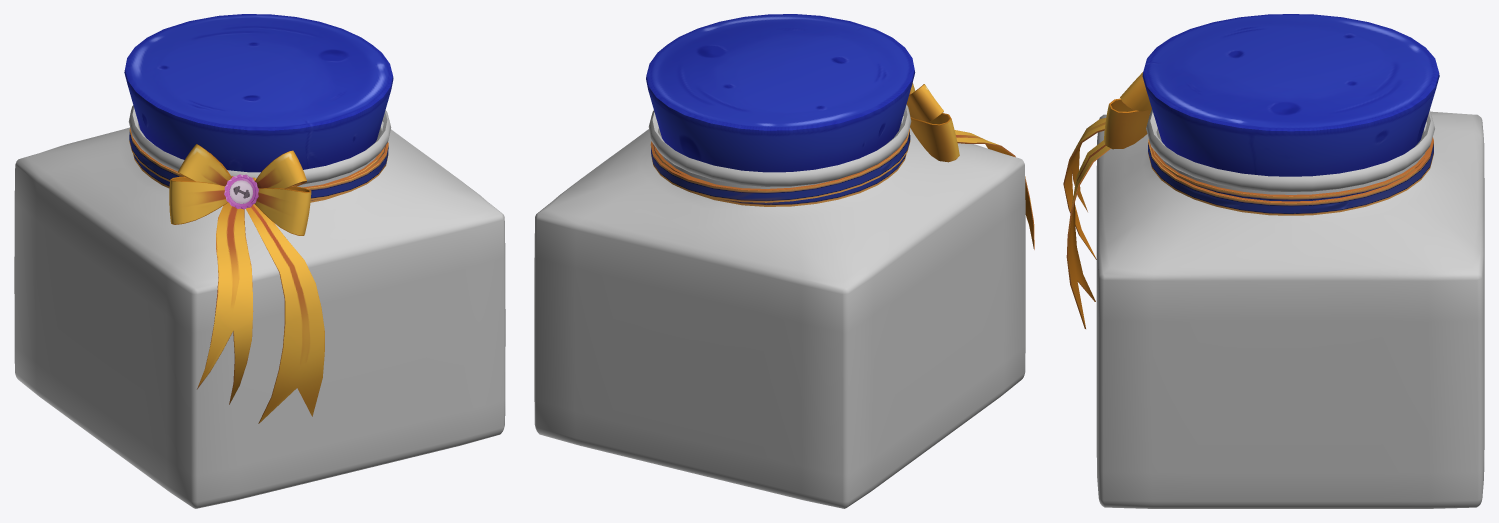
File: 무거운블럭.fbx
3 renders of one model, left to right at view 1: azimuth 30°, elevation 25°; view 2: azimuth 150°, elevation 25°; view 3: azimuth 270°, elevation 25°, orthographic. The views are drawn at different scales.
Parts seen in each view (by area): view 1: Box023, Cylinder018; view 2: Box023, Cylinder018; view 3: Box023, Cylinder018.
Boxes of the visible parts, left/top/right/bottom form: Box023: left=14, top=105, right=505, bottom=508; Cylinder018: left=124, top=14, right=393, bottom=423; Box023: left=534, top=104, right=1025, bottom=508; Cylinder018: left=646, top=14, right=1034, bottom=249; Box023: left=1096, top=109, right=1484, bottom=508; Cylinder018: left=1063, top=14, right=1439, bottom=328.
Bounding box in the file's own units: 100 × 102 × 108.
